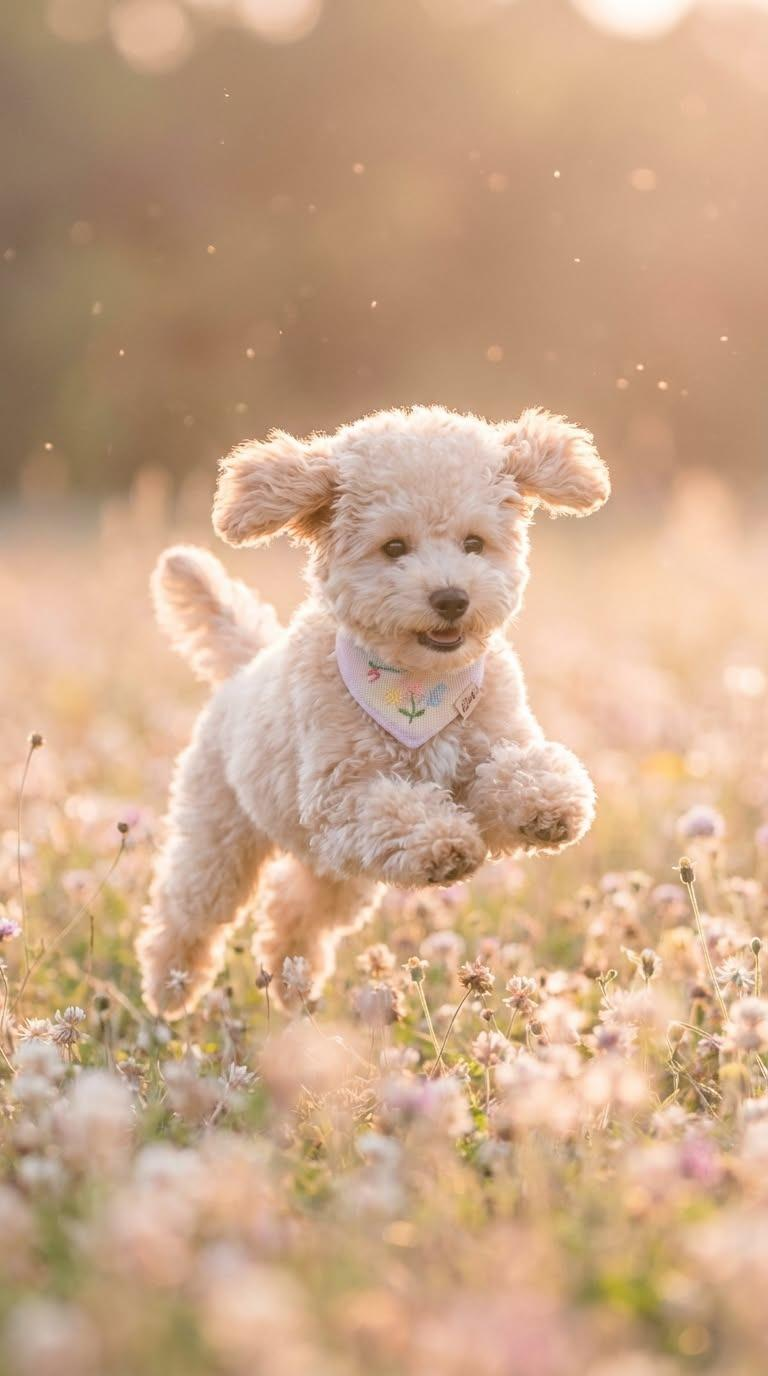puppy-dog: (133, 404, 613, 1026)
